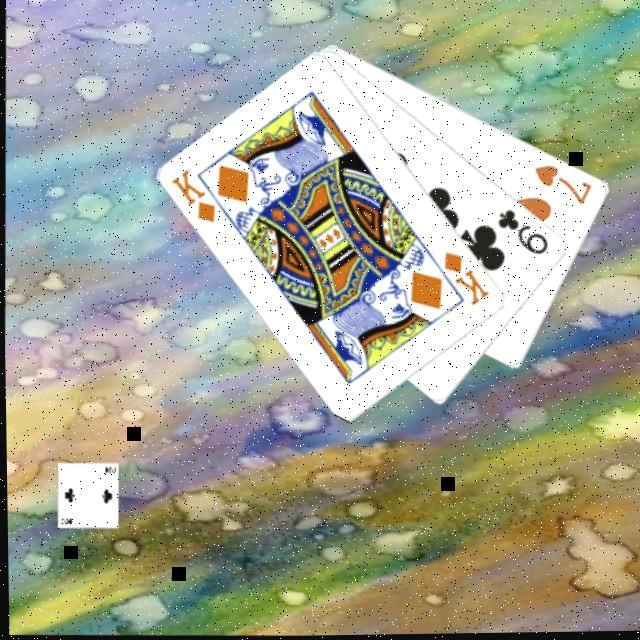7H: (528, 162, 594, 210)
9C: (492, 207, 551, 260)
KD: (438, 250, 492, 312), (166, 166, 218, 228)
